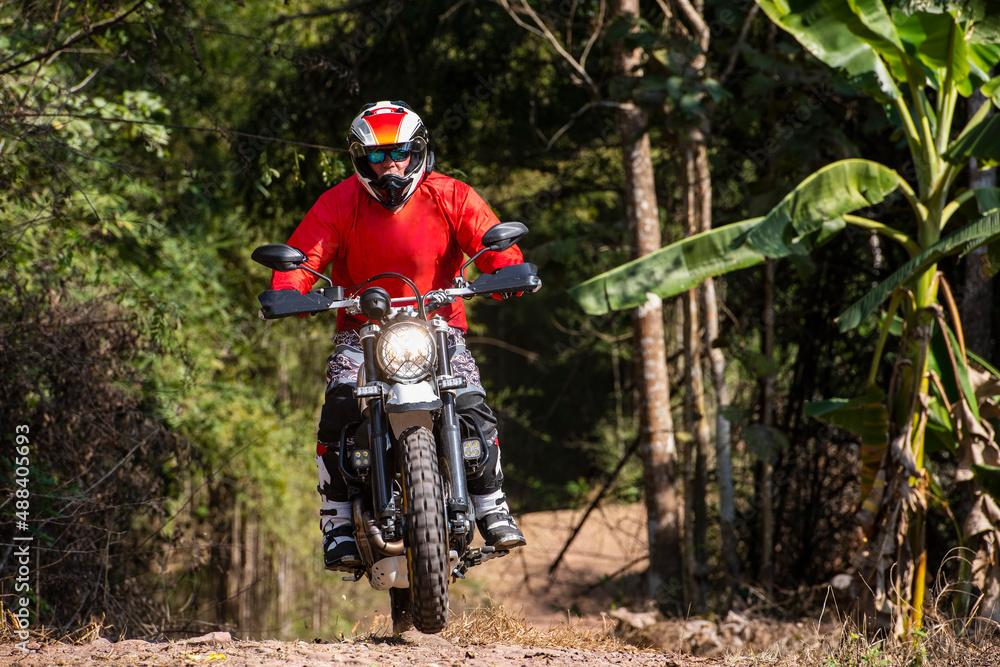helmet: (346, 99, 436, 210)
